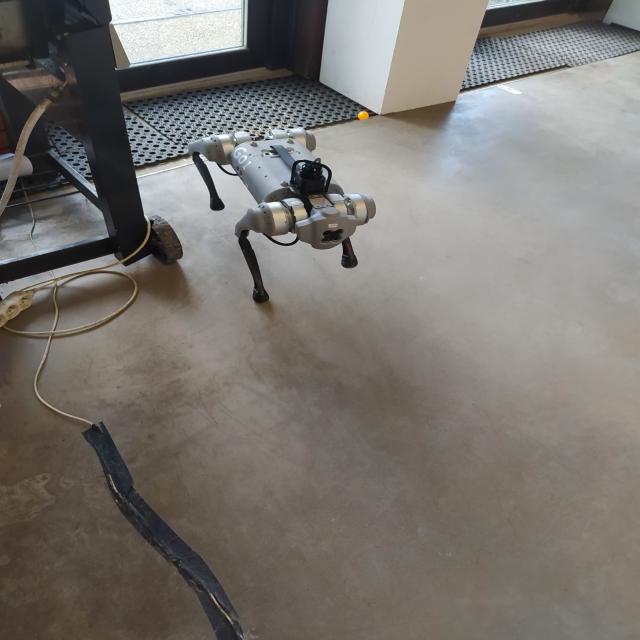unitree-go1-robot: (189, 126, 376, 307)
